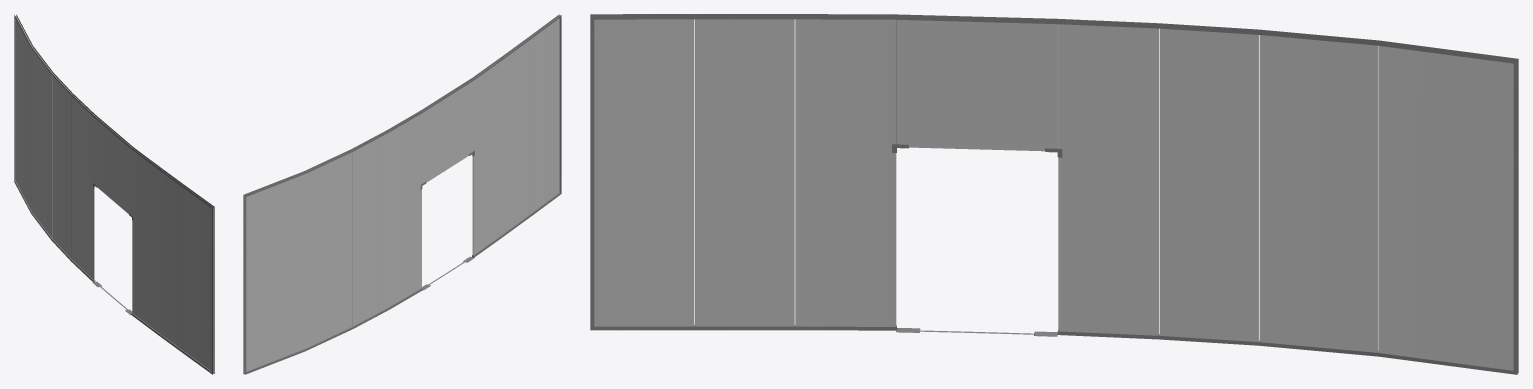
Rendered from SM_StoreFront_Atrium_06.fbx.
3 views of the same model, side by side, from view 1: azimuth 30°, elevation 25°; view 2: azimuth 150°, elevation 25°; view 3: azimuth 270°, elevation 25° (orthographic). The views are drawn at different scales.
Parts seen in each view (by area): view 1: SM_StoreFront_Atrium_06_LOD0; view 2: SM_StoreFront_Atrium_06_LOD0; view 3: SM_StoreFront_Atrium_06_LOD0.
Boxes of the visible parts, <box> form: SM_StoreFront_Atrium_06_LOD0: <box>14,14,214,374</box>; SM_StoreFront_Atrium_06_LOD0: <box>243,14,561,374</box>; SM_StoreFront_Atrium_06_LOD0: <box>590,14,1518,374</box>.
Size of the model in its own units: 137 by 1151 by 430.
